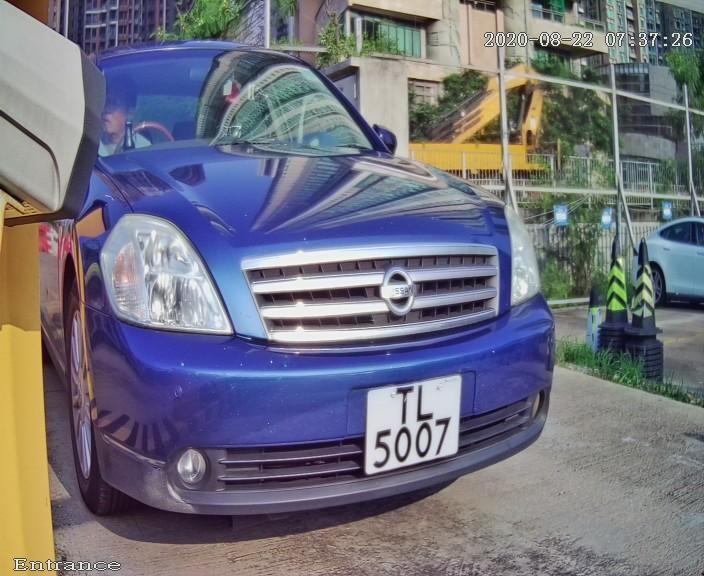Car: (13, 13, 604, 553)
License Plate: (353, 371, 469, 481)
